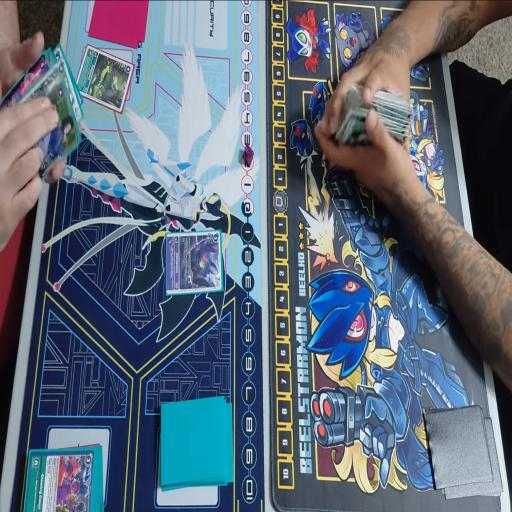card: (23, 80, 80, 176), (21, 446, 96, 512), (161, 230, 227, 296), (78, 47, 136, 114), (0, 53, 53, 120)
